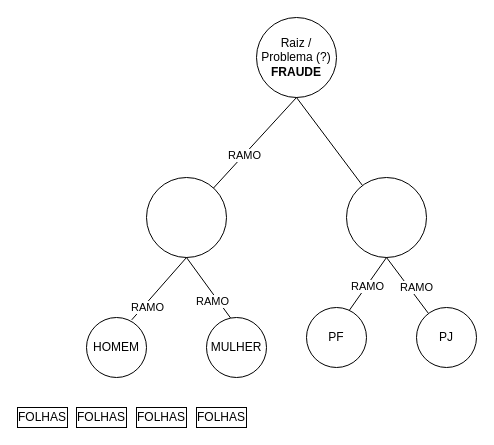
Some shapes in this 494 by 445 pixel diagram are drawn without their labels. The shapes that lost their labels are listed below. From the top down, each one's centre as x and y in pixels, then its label:
At point 186,217: "SEXO".
At point 386,217: "PESSOA".
